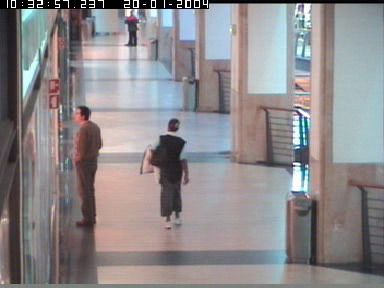person: (139, 118, 188, 230), (72, 105, 102, 227), (124, 10, 140, 47)
